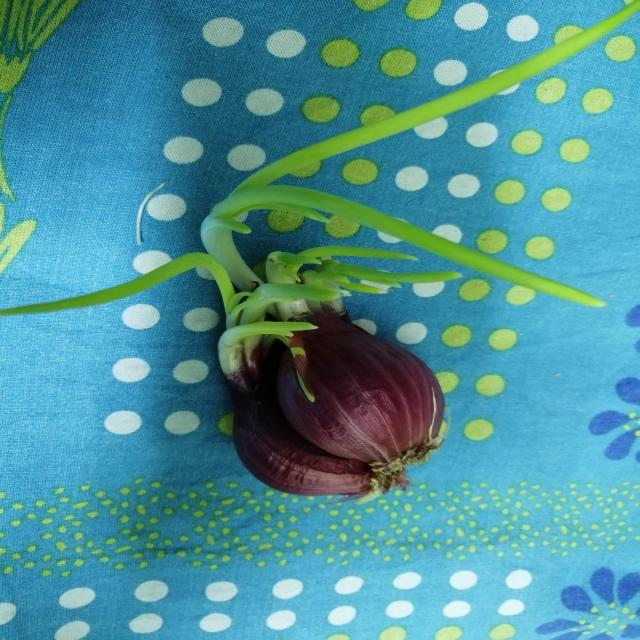sprouting: (98, 88, 552, 514)
